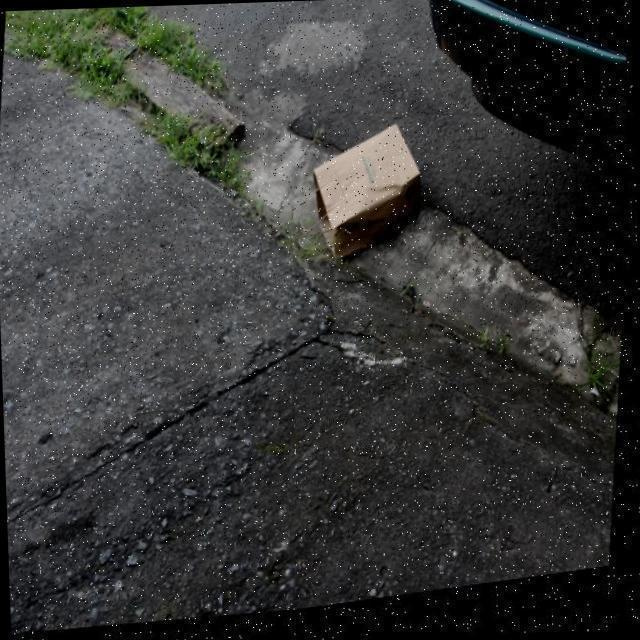Paper_Bag: (294, 124, 431, 279)
